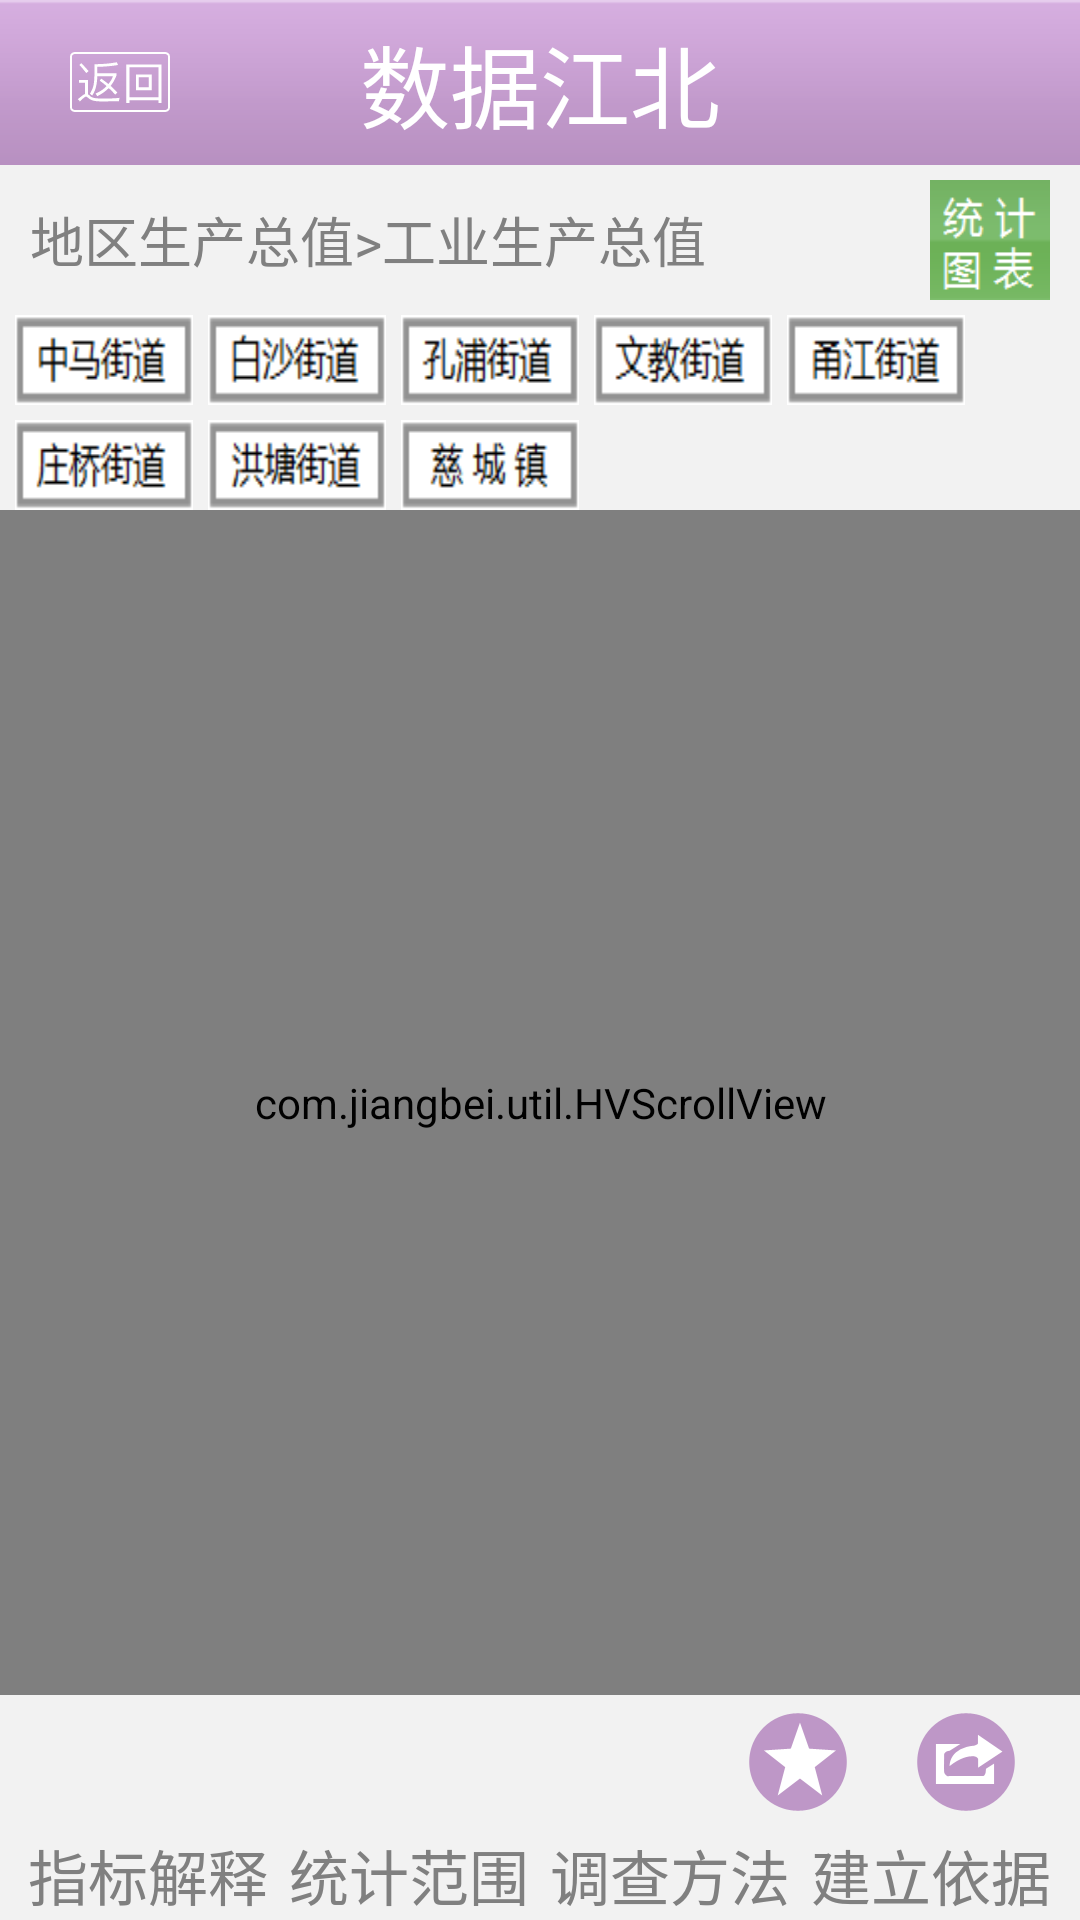

Point at icon controls on the screen. Image size 1080 × 1920, points as (x=x, y=y).
detail collect: (x=798, y=1762)
detail share: (x=966, y=1762)
